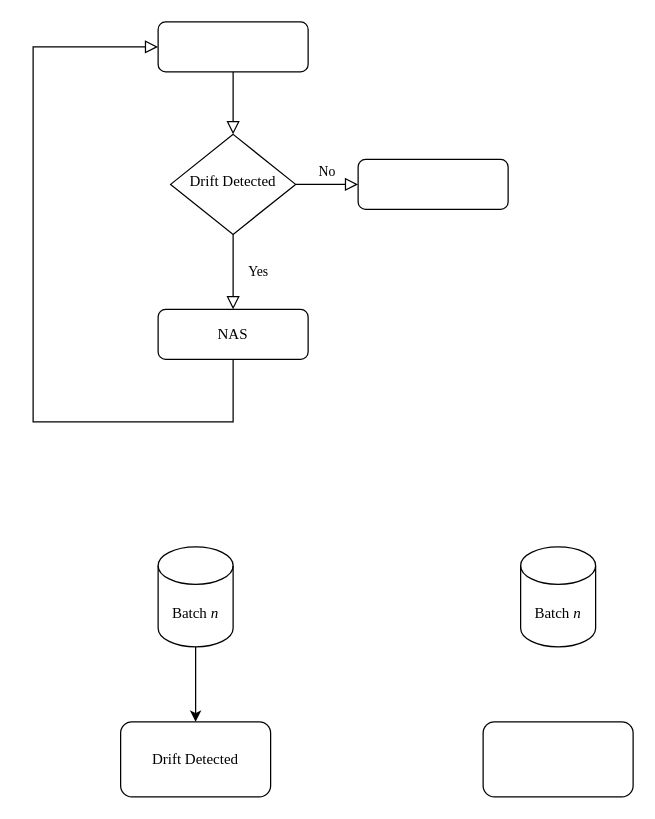
Some shapes in this 655 by 819 pixel diagram are drawn without their labels. The shapes that lost their labels are listed below. From the top down, each one's box as (x1, y1, x2, y2) in pixels, then its label:
(157, 21, 308, 72): Online Data Stream
(357, 158, 508, 209): Keep Inputing Data Stream
